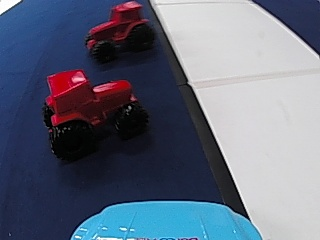tractor: (36, 66, 151, 161), (83, 2, 153, 61)
